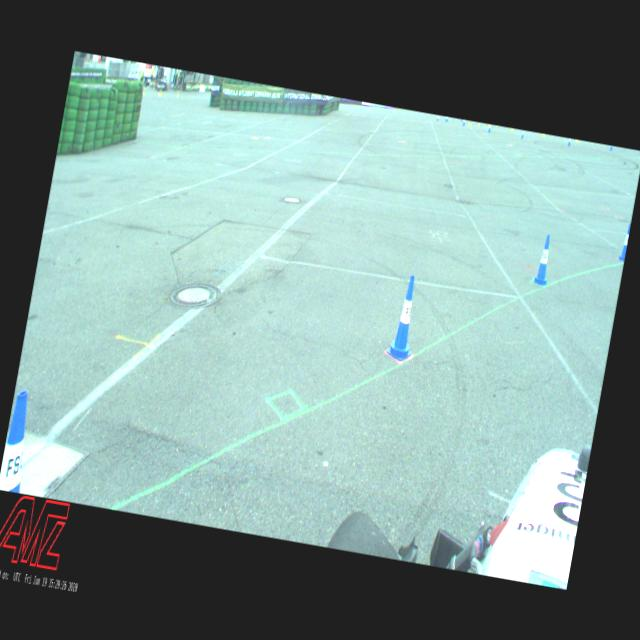blue_cone: (0, 387, 37, 492), (386, 272, 424, 362), (532, 233, 555, 286), (618, 222, 630, 260), (488, 124, 492, 132), (568, 138, 572, 146), (520, 130, 524, 138), (609, 145, 613, 151), (462, 119, 465, 126), (445, 116, 447, 122), (436, 114, 438, 120), (437, 114, 439, 120), (446, 116, 448, 122)
